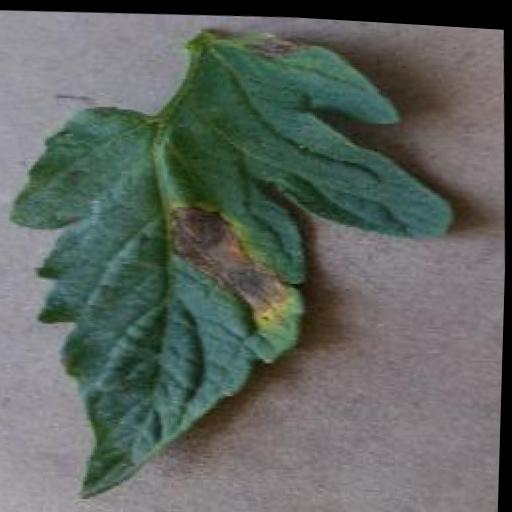Early Blight: (0, 3, 467, 512)
